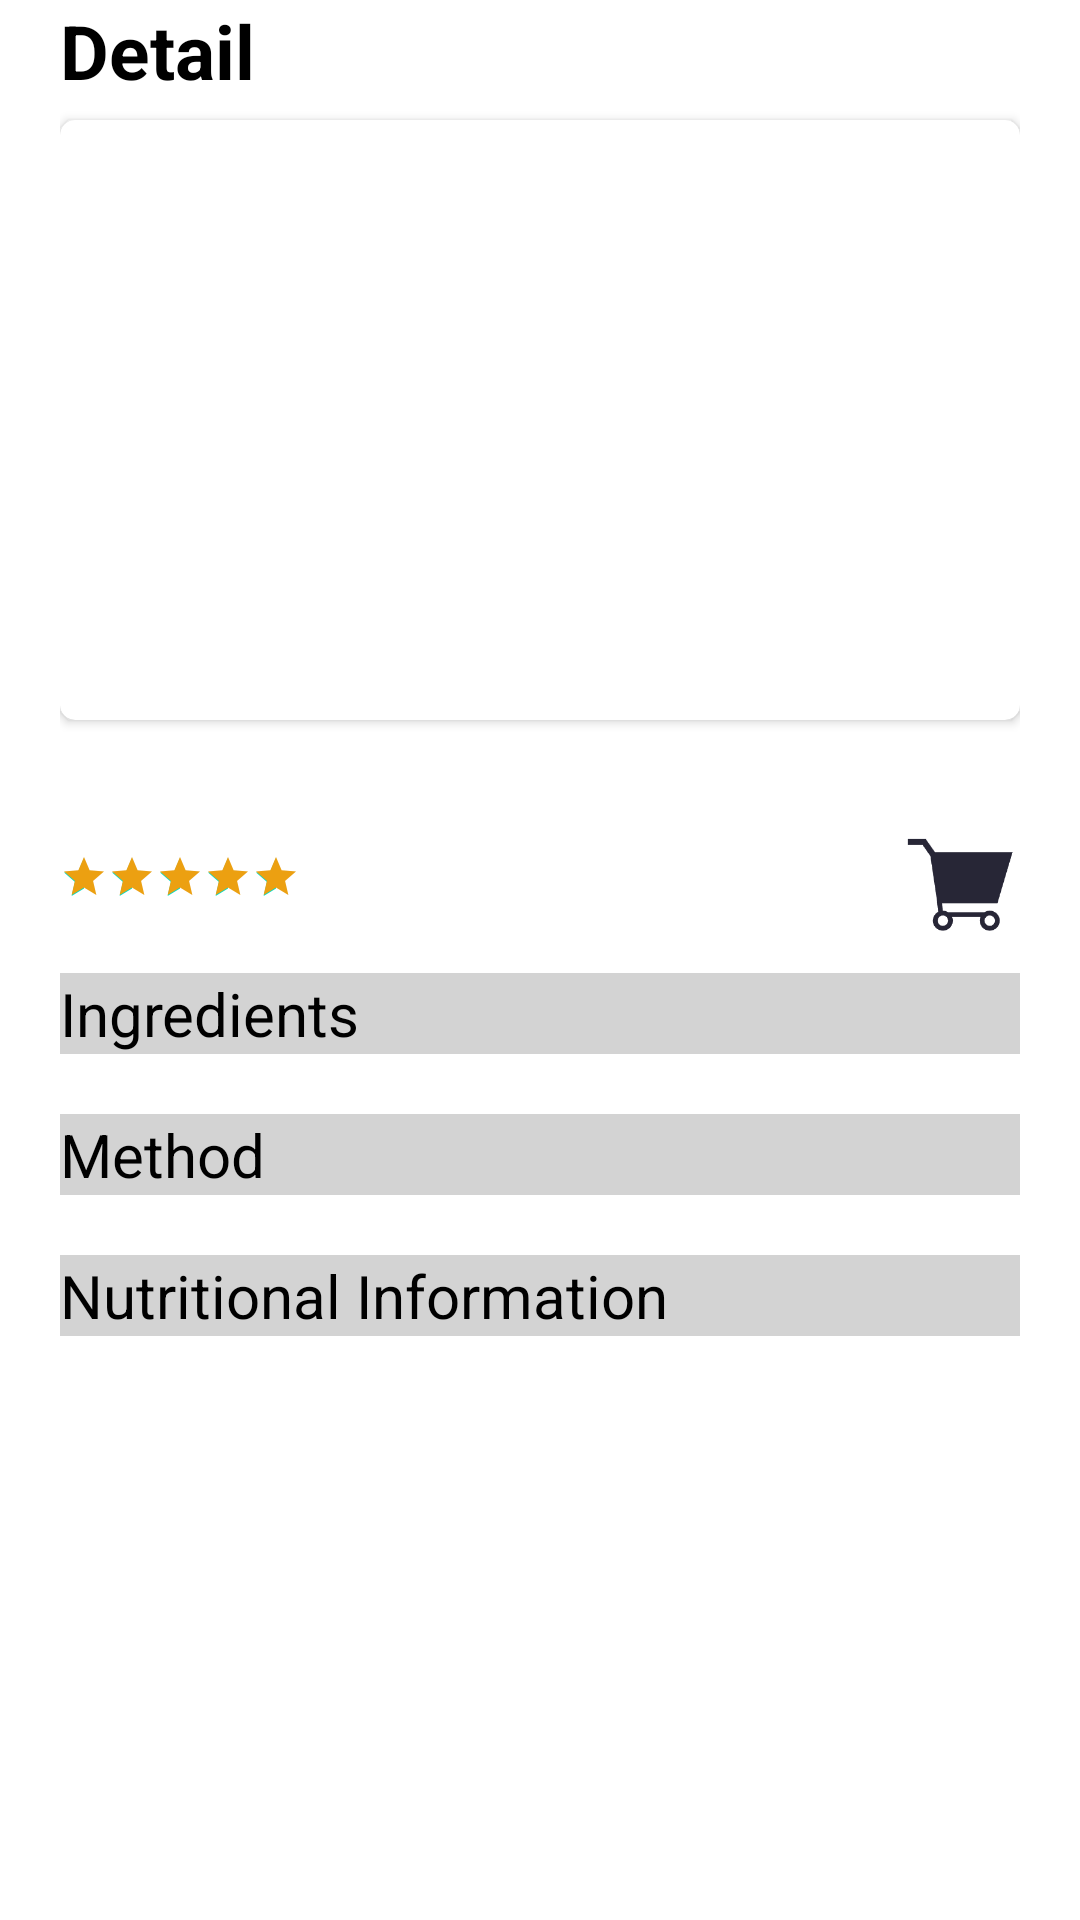

Screen size 1080px×1920px. Icon name, then its center in pixels as (x,y):
shop: (960,885)
